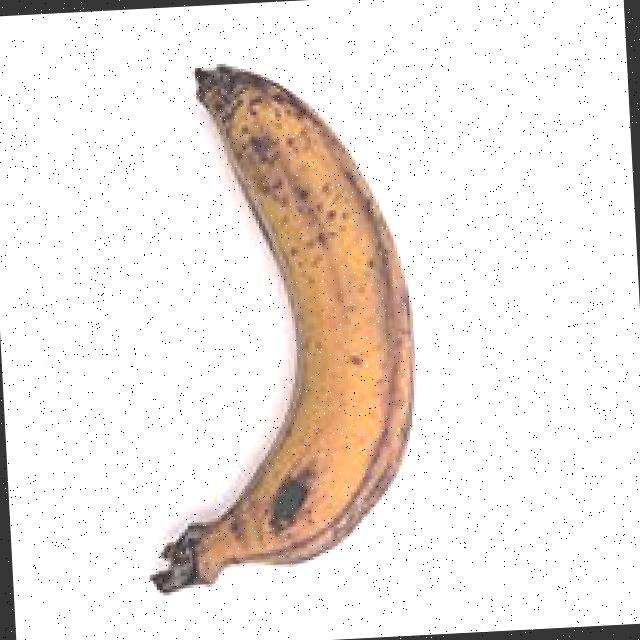Overripe: (56, 10, 483, 640)
